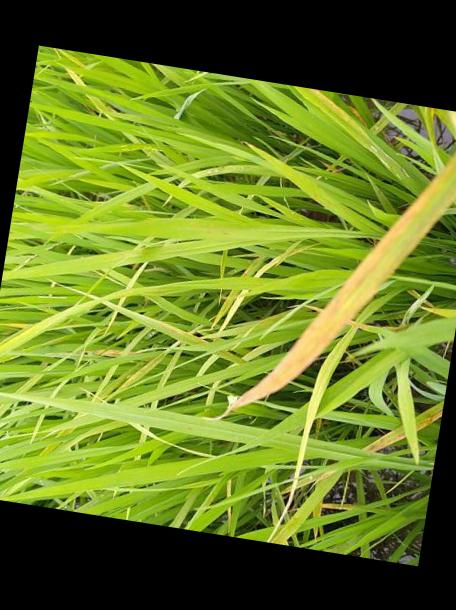Leaf Blight: (227, 152, 456, 413), (283, 341, 342, 514), (364, 425, 406, 451), (416, 398, 444, 430)
